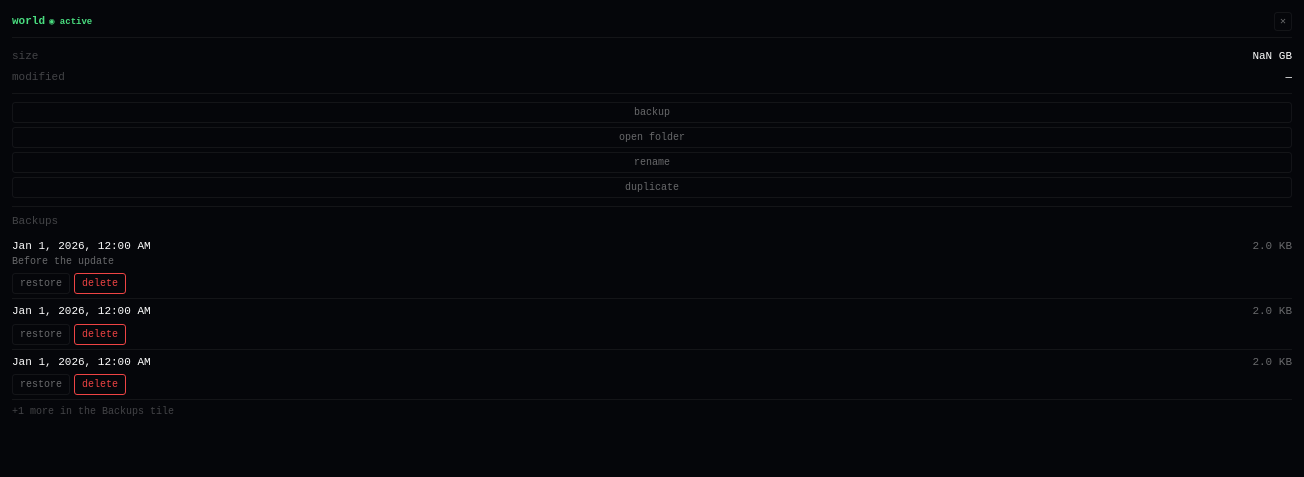
Test case: WorldHud backups › shows the error when a restore is refused
Click the button "restore" below "Before the update": (41, 284) [12, 273, 70, 294]
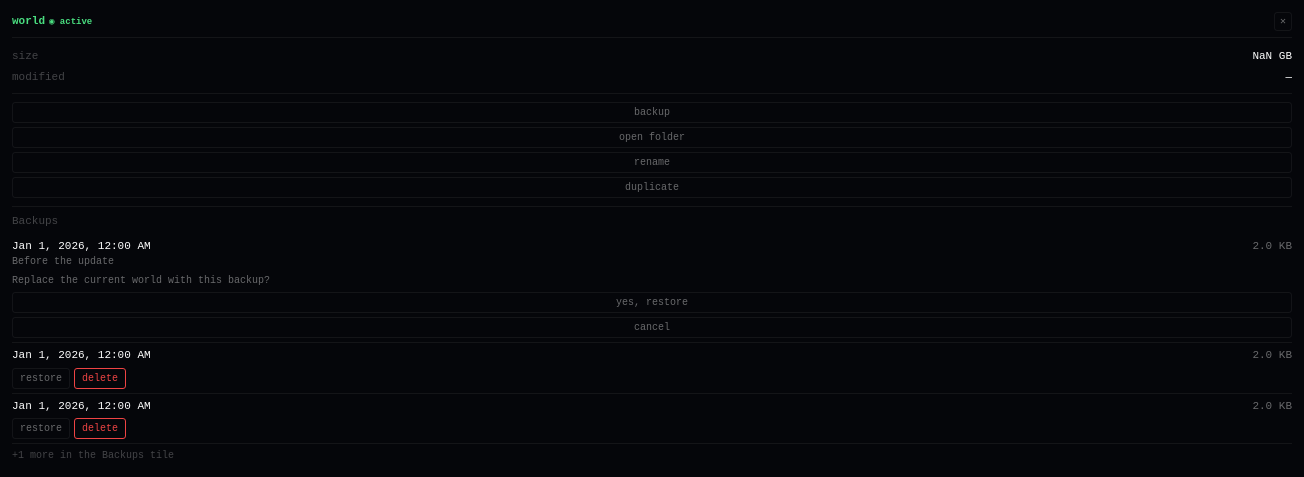
Click the button "yes, restore": (652, 302) [12, 292, 1292, 313]
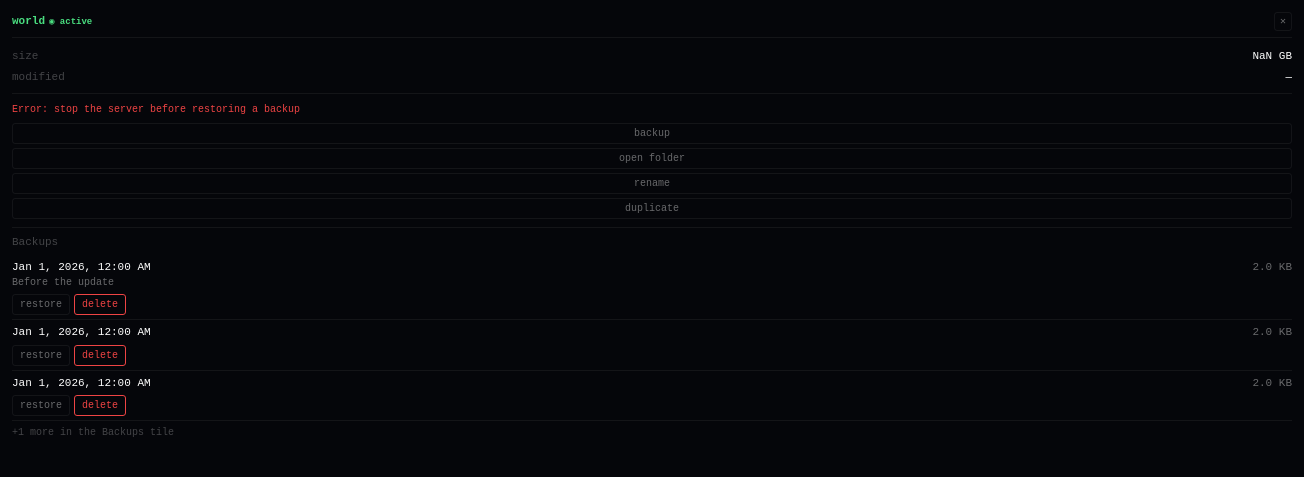
Check: the text "Error: stop the server before restoring a backup" is shown, box [12, 104, 300, 115]
